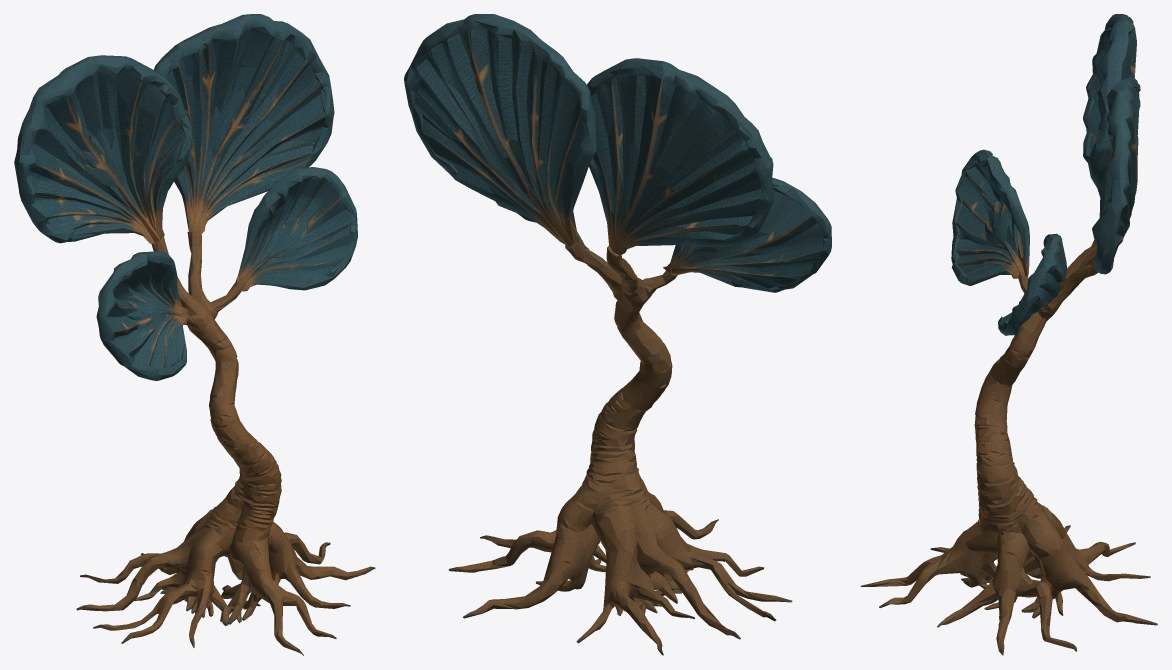
Rendered from fan-plant.glb.
3 renders of one model, left to right at view 1: azimuth 30°, elevation 25°; view 2: azimuth 150°, elevation 25°; view 3: azimuth 270°, elevation 25°, orthographic. The views are drawn at different scales.
Parts seen in each view (by area): view 1: Mesh_0.008; view 2: Mesh_0.008; view 3: Mesh_0.008.
Part boxes in pixels (x1,y1,x2,y2): Mesh_0.008: (14,14,375,655); Mesh_0.008: (404,14,831,655); Mesh_0.008: (860,14,1157,655).
Bounding box in the file's own units: 1.2 × 1.9 × 0.9601.
Materials: 1 (1 with a texture image).
